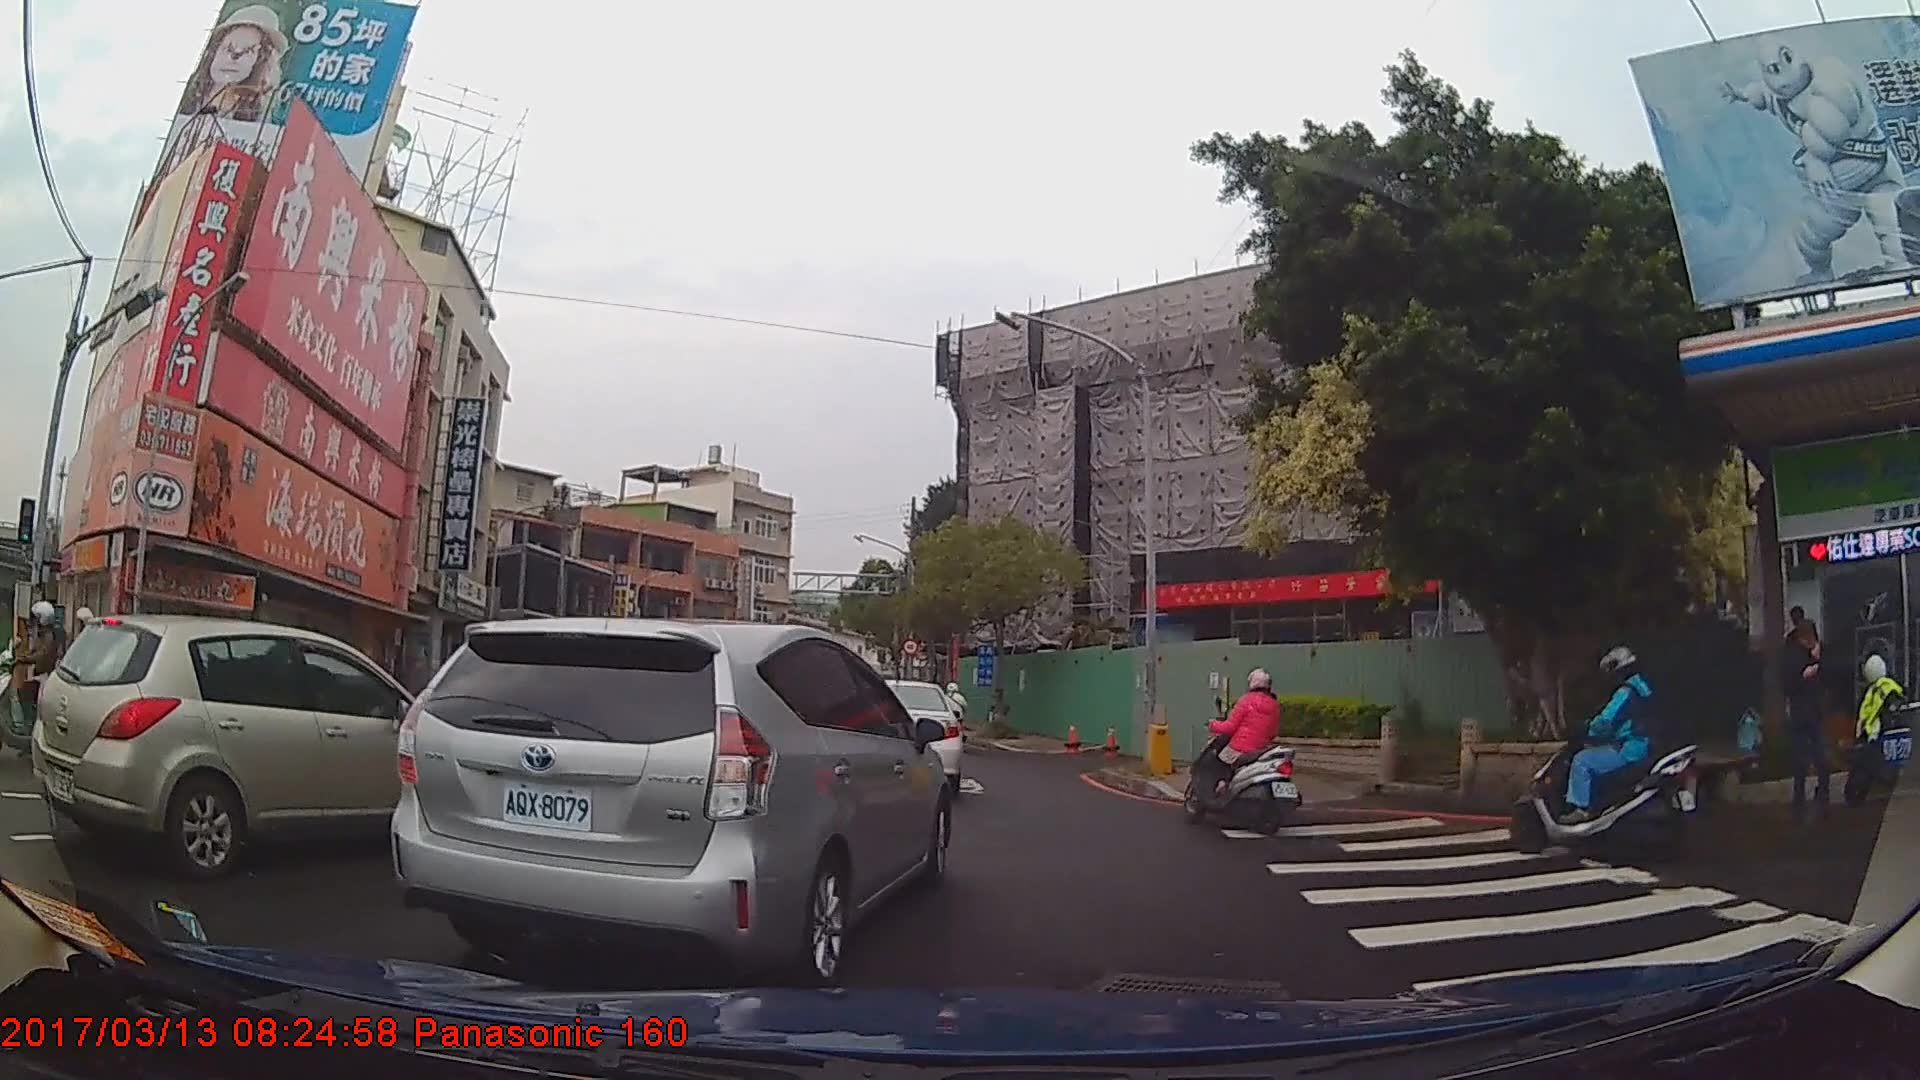pedestrian: (1779, 618, 1839, 803), (1780, 611, 1824, 745)
rider: (1509, 645, 1700, 859), (1186, 669, 1305, 838), (945, 683, 969, 753)
vehicle: (385, 611, 955, 985), (30, 606, 479, 874)
